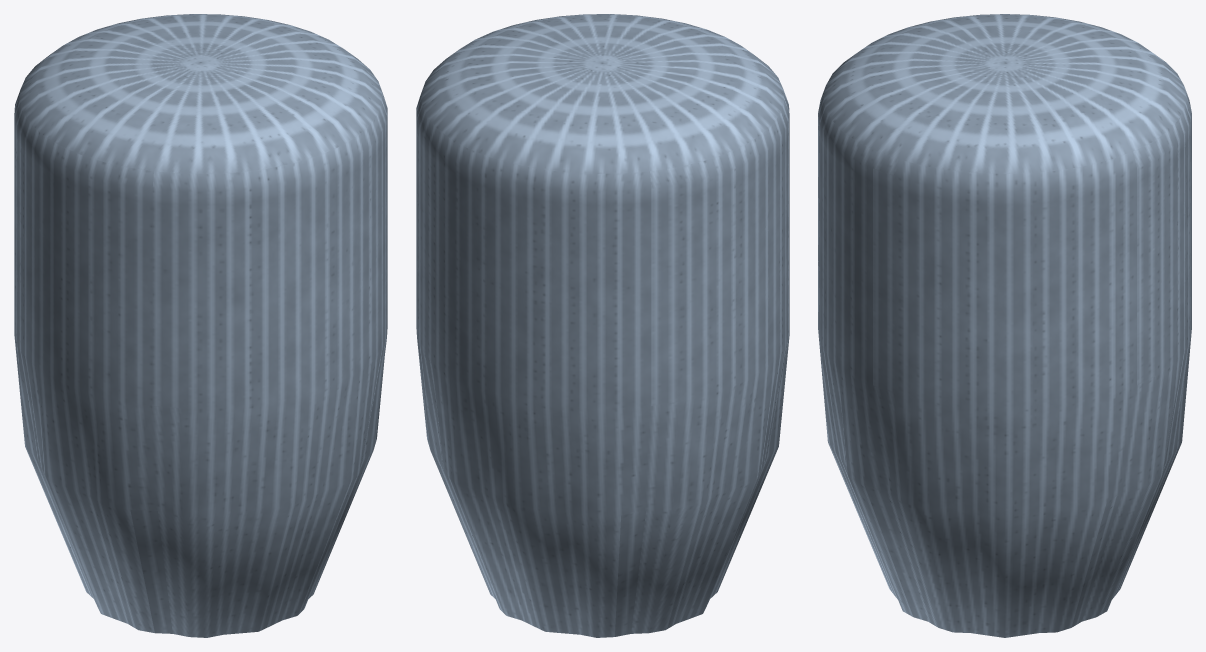
File: shell_radiolarian_lens.glb
3 renders of one model, left to right at view 1: azimuth 30°, elevation 25°; view 2: azimuth 150°, elevation 25°; view 3: azimuth 270°, elevation 25°, orthographic.
Parts seen in each view (by area): view 1: ShellRadiolarianLens; view 2: ShellRadiolarianLens; view 3: ShellRadiolarianLens.
Part boxes in pixels (x1,y1,x2,y2): ShellRadiolarianLens: [14, 14, 387, 637]; ShellRadiolarianLens: [416, 14, 789, 637]; ShellRadiolarianLens: [818, 14, 1191, 637].
Bounding box in the file's own units: 1.5 × 2.48 × 1.5.
1 material, 1 textured.
